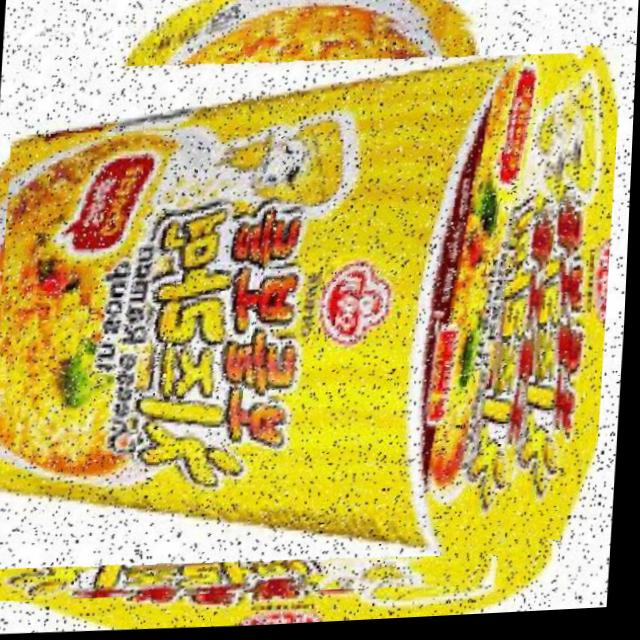Miscellaneous: (0, 3, 592, 611)
